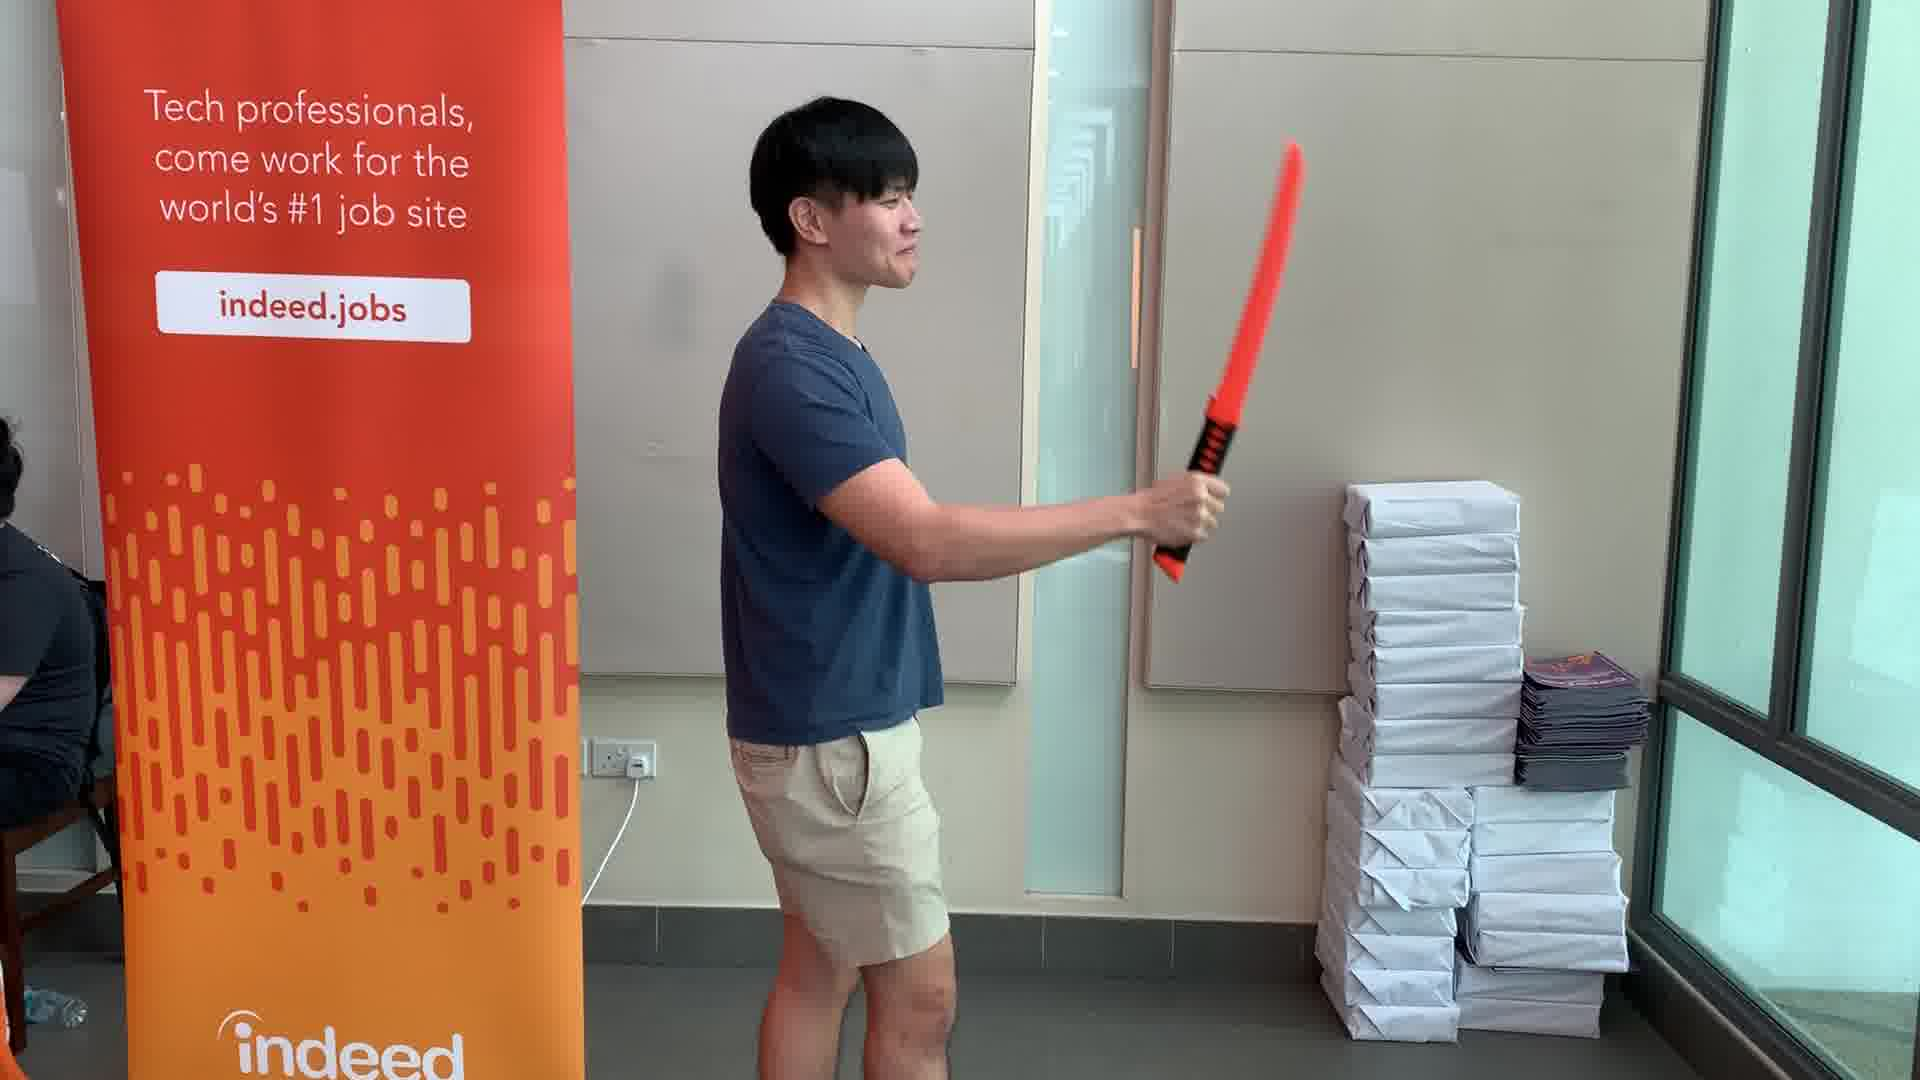knife: (1149, 127, 1307, 576)
